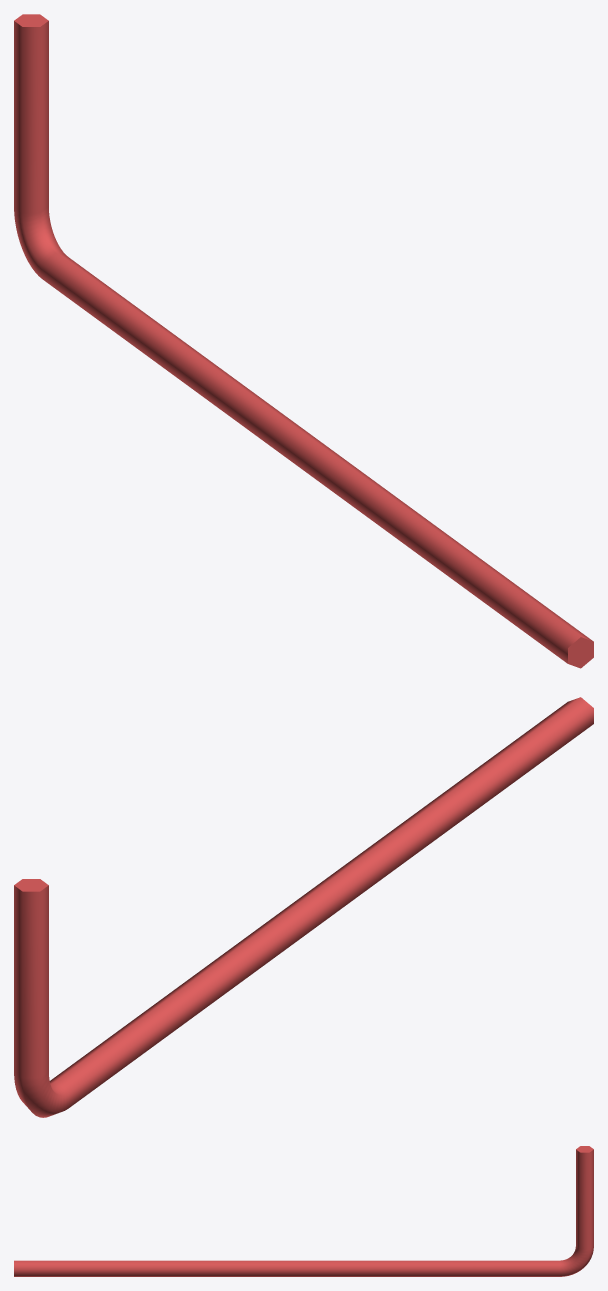
Rendered from tool_hex_driver_metric_small_candidate.glb.
3 renders of one model, top to bottom at view 1: azimuth 30°, elevation 25°; view 2: azimuth 150°, elevation 25°; view 3: azimuth 270°, elevation 25°, orthographic. The views are drawn at different scales.
Visible parts, largest first — view 1: Metric_L_Key; view 2: Metric_L_Key; view 3: Metric_L_Key.
Boxes of the visible parts, box(x1,y1,x2,y2) form: Metric_L_Key: box(14, 14, 593, 668); Metric_L_Key: box(14, 697, 593, 1117); Metric_L_Key: box(14, 1146, 593, 1276).
Size of the model in its own units: 0.0025 by 0.0224 by 0.0924.
